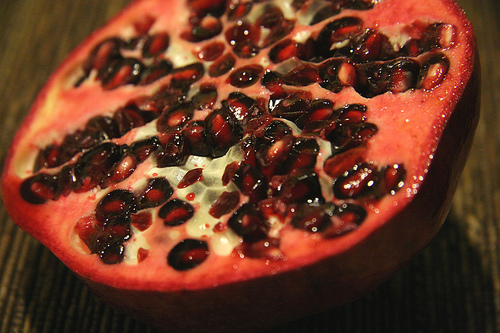pomogranate: (0, 0, 476, 321)
